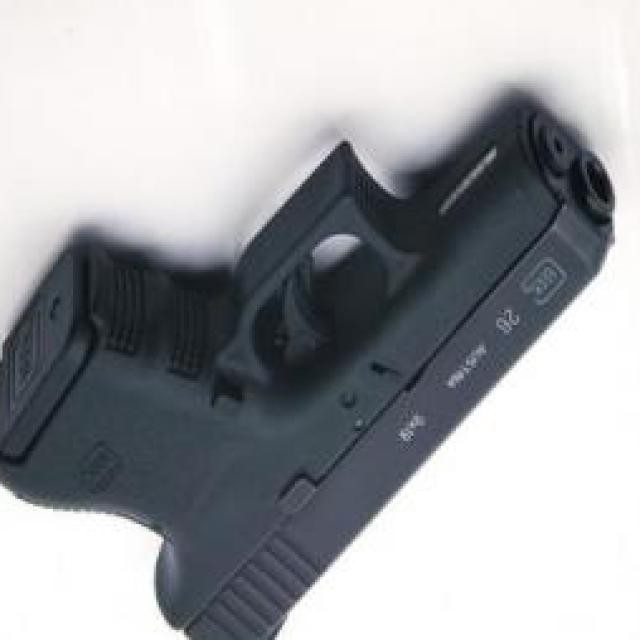pistol: (0, 93, 638, 640)
